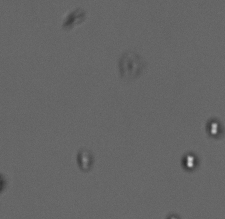Dead Cell: (120, 53, 144, 78), (77, 148, 93, 171)
Living Cell: (180, 150, 197, 171), (206, 117, 221, 138)
